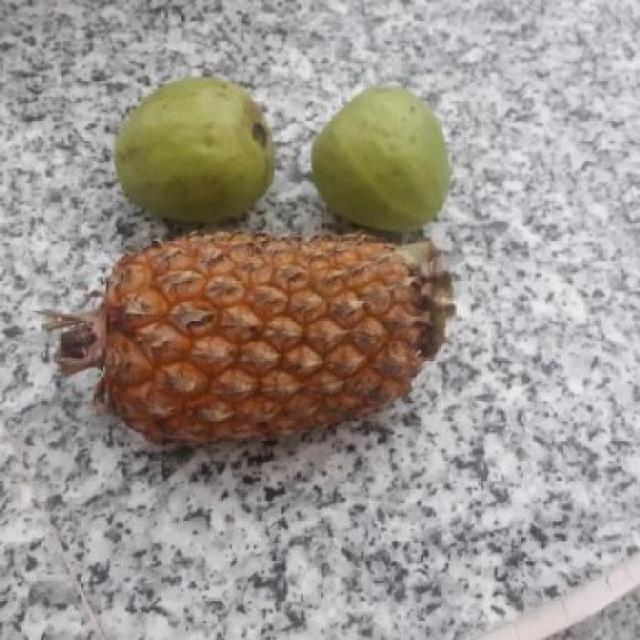guava: (117, 76, 280, 219), (313, 85, 455, 230)
pineapple: (62, 230, 460, 452)
